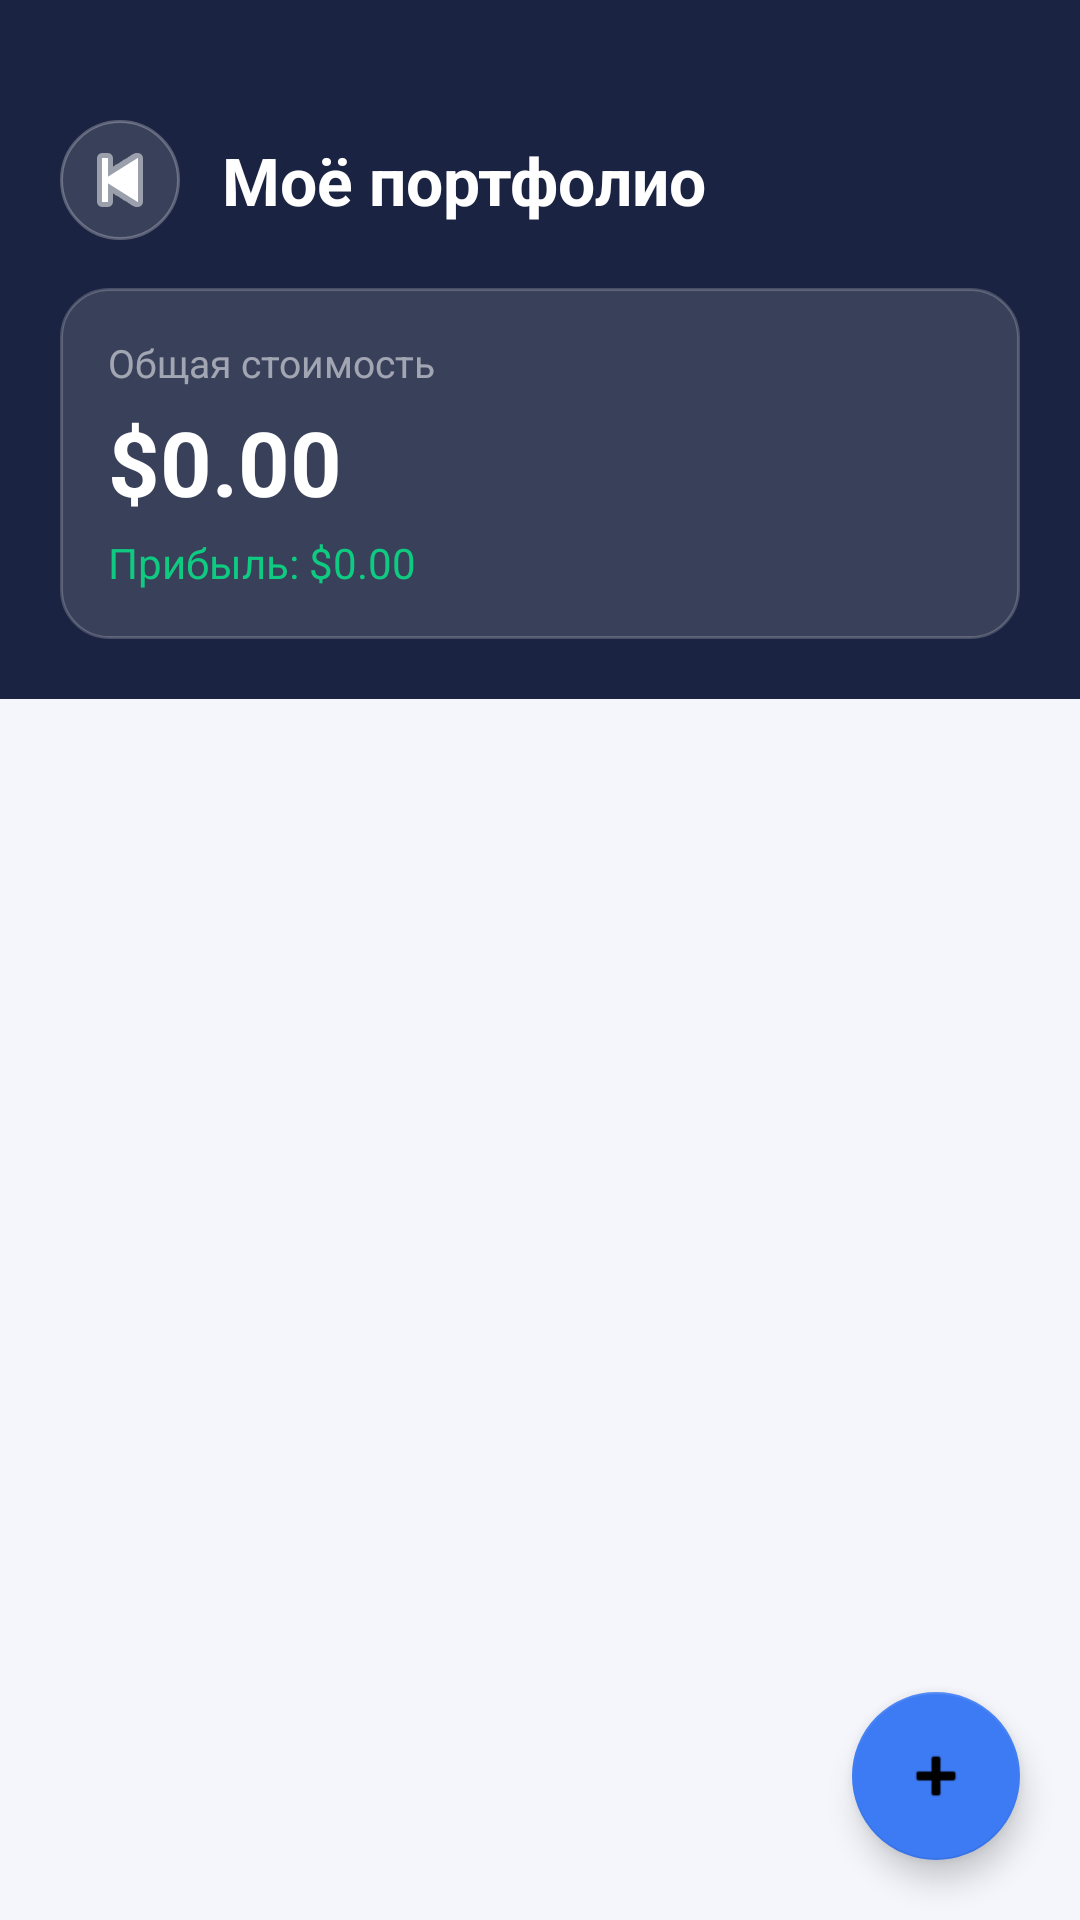

Screen size 1080 x 1920. Icon name, then its center in pixels as [x,y]:
Добавить: [936,1776]
Назад: [120,180]
